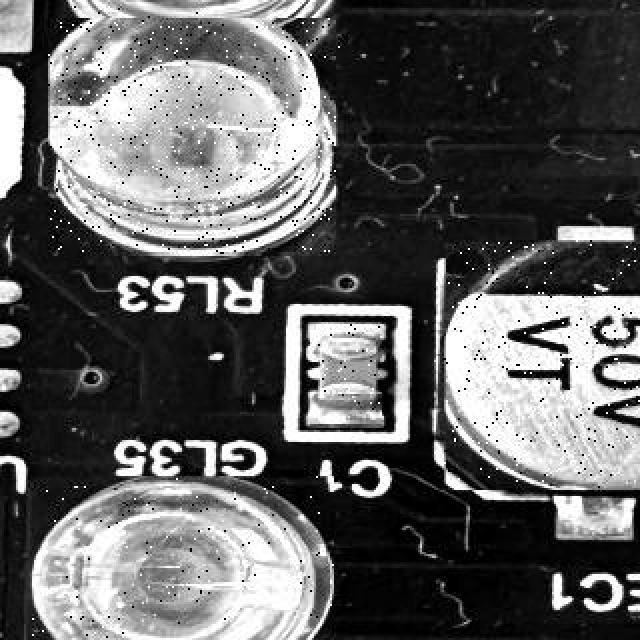Capacitor: (444, 240, 640, 490), (318, 336, 378, 412)
Soldering: (310, 395, 382, 427), (312, 324, 382, 344)
led: (49, 19, 337, 255), (28, 476, 334, 640)
